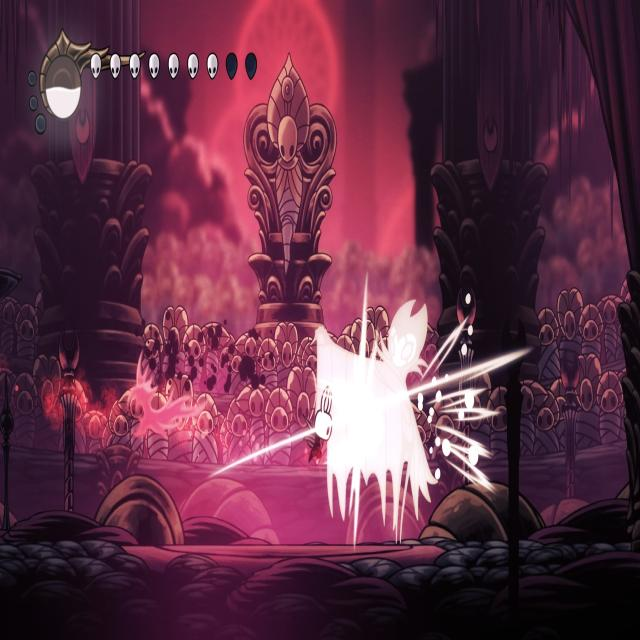Fire Bat: (125, 349, 208, 442)
Open Cloak: (316, 294, 450, 548)
Player: (300, 381, 338, 465)
